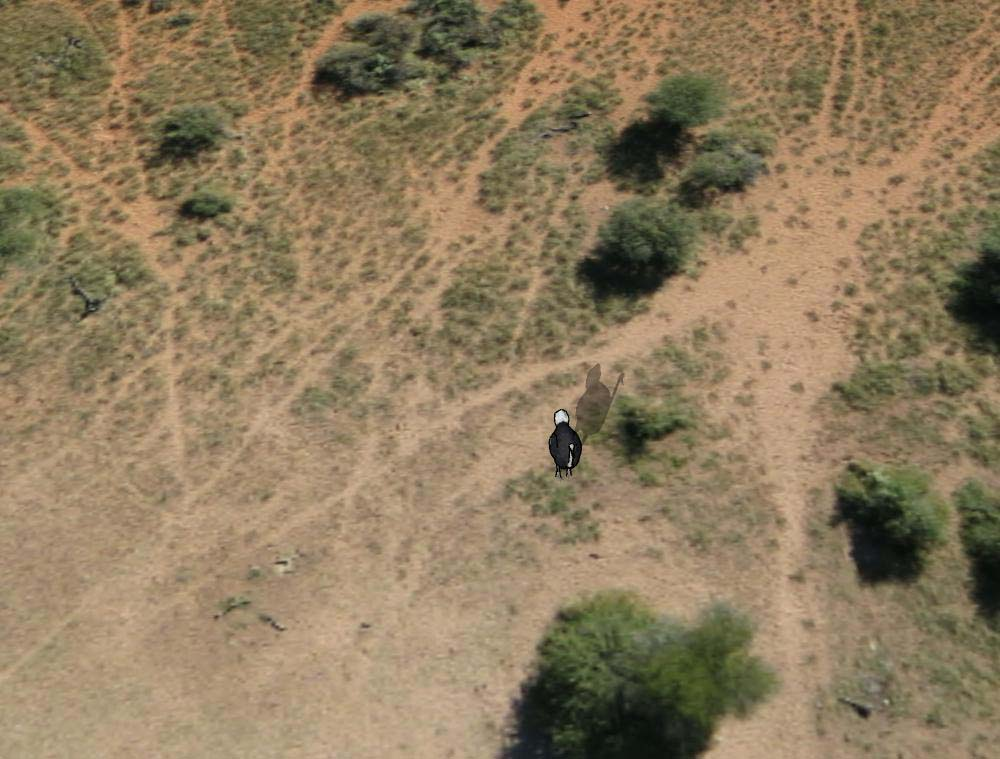springbok: (546, 407, 586, 482)
